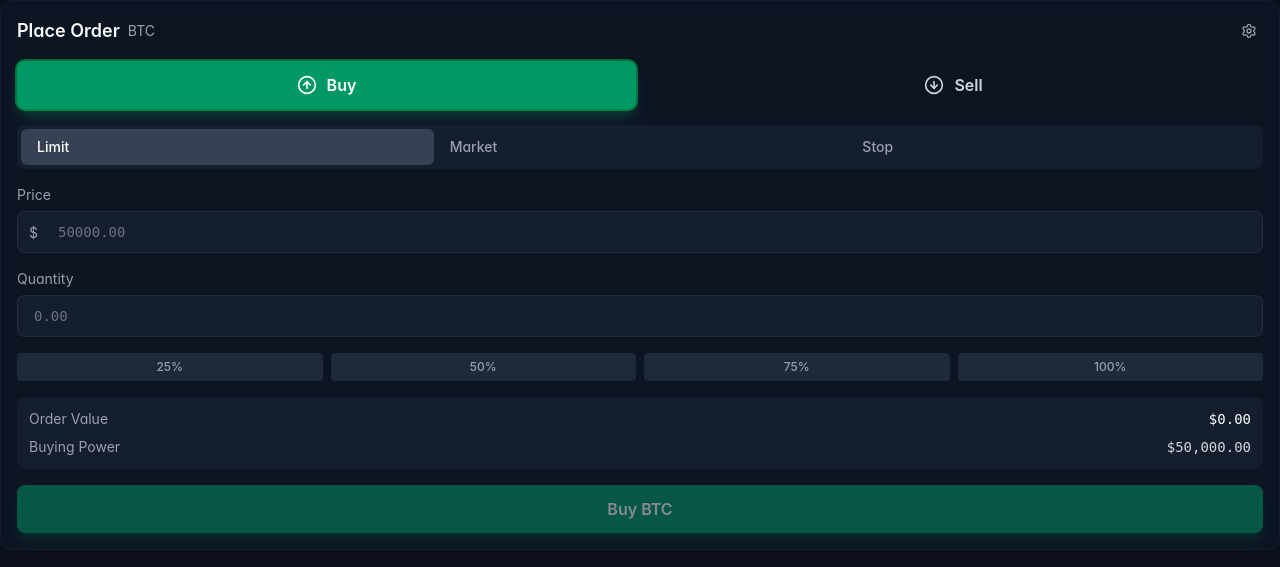
Test case: OrderPanel › Order Types › can switch to market order
Click the tab "Market" at (473, 146), box [434,129,846,165]
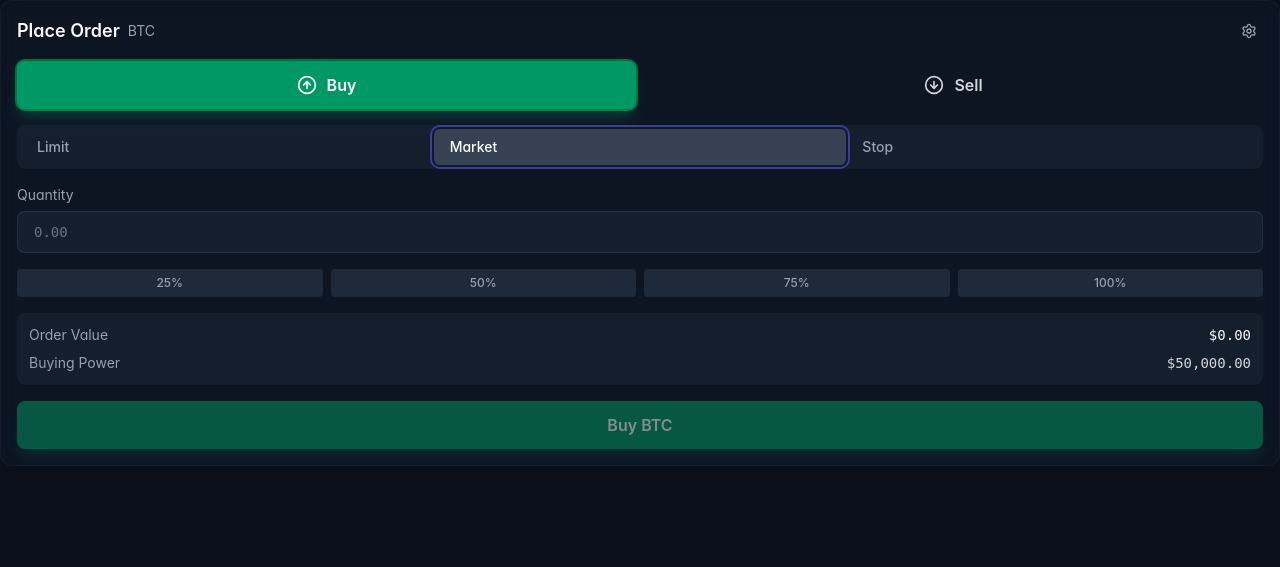
Now the text "Price" is gone
